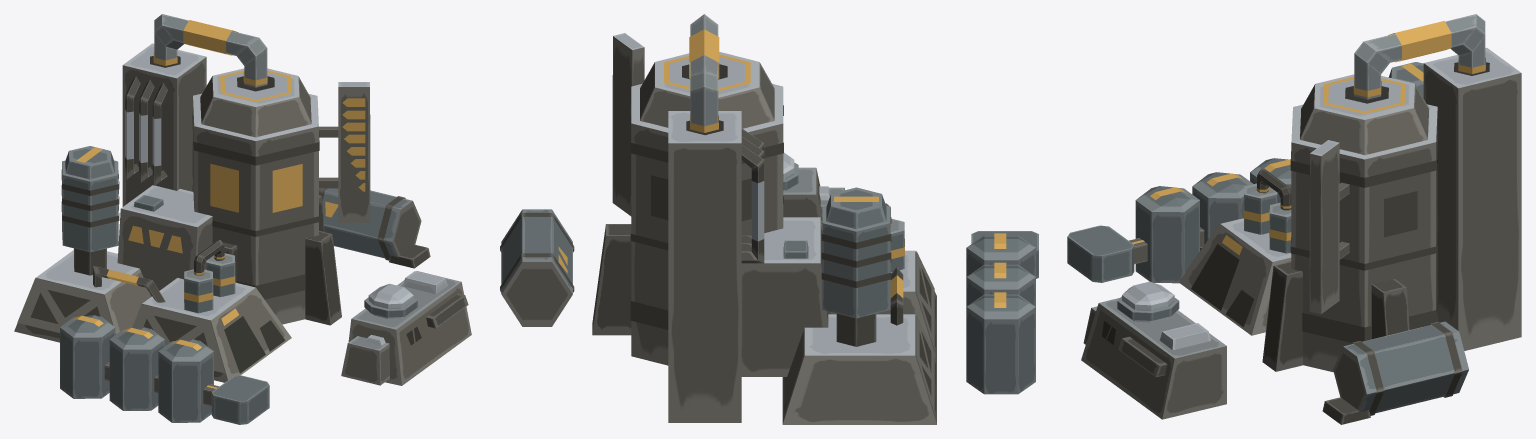
Rendered from saloon2.FBX.
3 views of the same model, side by side, from view 1: azimuth 30°, elevation 25°; view 2: azimuth 150°, elevation 25°; view 3: azimuth 270°, elevation 25° (orthographic). The views are drawn at different scales.
Visible parts, largest first — view 1: saloon2, c, a, b, d; view 2: saloon2, a, c, b; view 3: saloon2, c, b, d, a.
Part boxes in pixels (x1,y1,x2,y2): saloon2: (14, 14, 471, 424); c: (200, 68, 311, 137); a: (61, 146, 119, 252); b: (319, 82, 370, 222); d: (364, 296, 417, 317); saloon2: (500, 14, 1038, 424); a: (821, 187, 891, 318); c: (640, 52, 774, 128); b: (612, 33, 644, 216); saloon2: (1067, 14, 1521, 424); c: (1300, 74, 1429, 155); b: (1309, 140, 1349, 314); d: (1117, 296, 1179, 320); a: (1388, 62, 1423, 97).
Size of the model in its own units: 148 by 128 by 99.18.
